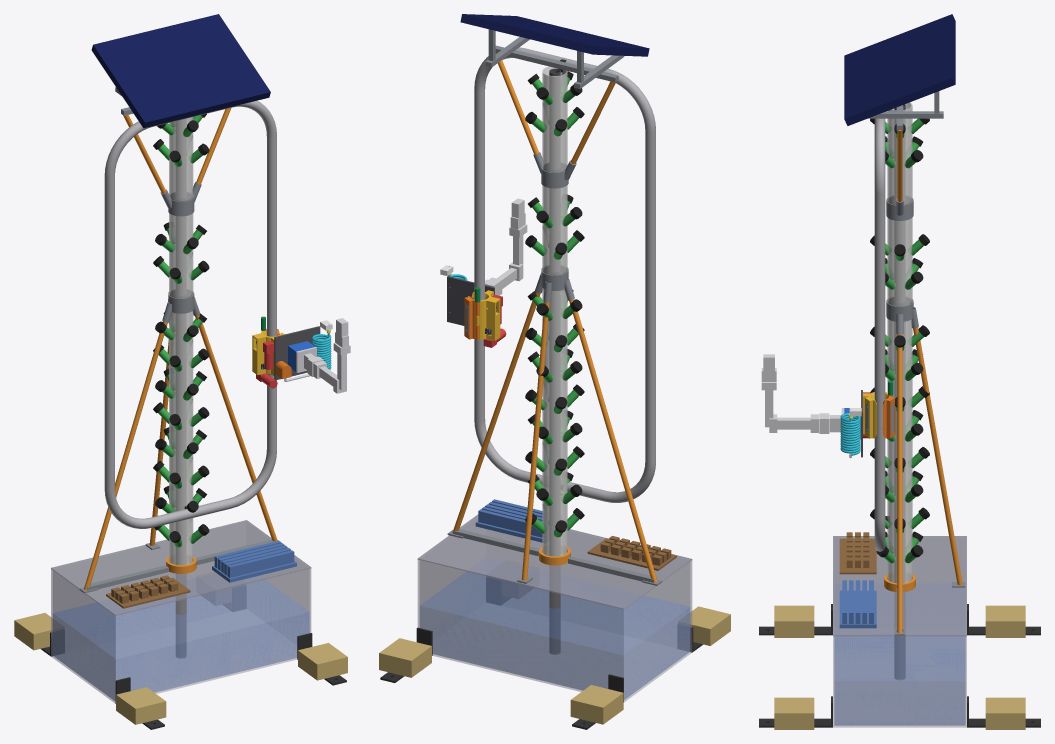
File: unit-full-v4.glb
3 renders of one model, left to right at view 1: azimuth 30°, elevation 25°; view 2: azimuth 150°, elevation 25°; view 3: azimuth 270°, elevation 25°, orthographic. The views are drawn at different scales.
Parts seen in each view (by area): view 1: tank, water_volume, solar_panel_30W, track_loop, growing_pipe, lid, spine_tube, sandbags, lower_aframe_and_back_strut_16mm, pod_caps, pods, seedling_storage (+8 smaller); view 2: tank, water_volume, track_loop, growing_pipe, lid, spine_tube, lower_aframe_and_back_strut_16mm, sandbags, pod_caps, pods, solar_panel_30W, seedling_storage (+10 smaller); view 3: tank, water_volume, lid, growing_pipe, solar_panel_30W, sandbags, track_loop, lower_aframe_and_back_strut_16mm, pods, spine_tube, pod_caps, cart_so101_arm_envelope (+7 smaller).
Part boxes in pixels (x1,y1,x2,y2): tank: (51, 535, 311, 703); water_volume: (53, 580, 309, 700); solar_panel_30W: (91, 14, 270, 128); track_loop: (104, 100, 276, 528); growing_pipe: (169, 117, 193, 565); lid: (51, 520, 311, 615); spine_tube: (176, 119, 186, 657); sandbags: (14, 594, 347, 724); lower_aframe_and_back_strut_16mm: (84, 314, 277, 590); pod_caps: (153, 113, 209, 542); pods: (158, 115, 202, 547); seedling_storage: (212, 541, 296, 582); tank: (417, 538, 692, 702); water_volume: (420, 572, 689, 699); track_loop: (474, 47, 655, 502); growing_pipe: (542, 66, 567, 556); lid: (417, 514, 692, 609); spine_tube: (549, 68, 560, 654); lower_aframe_and_back_strut_16mm: (452, 292, 657, 582); sandbags: (379, 582, 730, 724); pod_caps: (525, 71, 584, 532); pods: (532, 77, 579, 537); solar_panel_30W: (460, 14, 649, 56); seedling_storage: (475, 499, 542, 542); tank: (833, 538, 966, 727); water_volume: (834, 636, 965, 725); lid: (833, 536, 966, 636); growing_pipe: (887, 102, 912, 583); solar_panel_30W: (844, 14, 955, 125); sandbags: (774, 605, 1025, 729); track_loop: (874, 118, 885, 551); lower_aframe_and_back_strut_16mm: (897, 327, 962, 633); pods: (884, 118, 924, 563); spine_tube: (894, 104, 905, 679); pod_caps: (870, 118, 929, 557); cart_so101_arm_envelope: (761, 354, 844, 433).
Size of the model in its own units: 835 by 2080 by 840.
